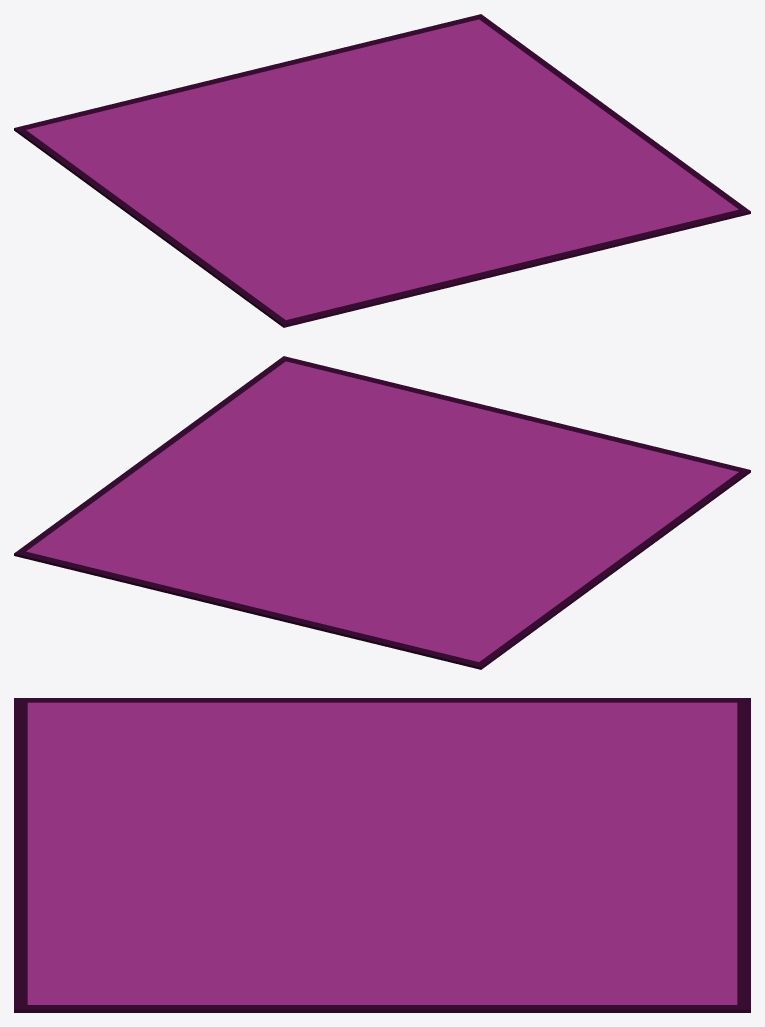
Rendered from Casilla 25.fbx.
3 renders of one model, top to bottom at view 1: azimuth 30°, elevation 25°; view 2: azimuth 150°, elevation 25°; view 3: azimuth 270°, elevation 25°, orthographic. The views are drawn at different scales.
Parts seen in each view (by area): view 1: pCube3; view 2: pCube3; view 3: pCube3.
Boxes of the visible parts, left/top/right/bottom form: pCube3: left=14, top=14, right=750, bottom=327; pCube3: left=14, top=356, right=750, bottom=669; pCube3: left=14, top=698, right=750, bottom=1012.
Size of the model in its own units: 200 by 1 by 200.
